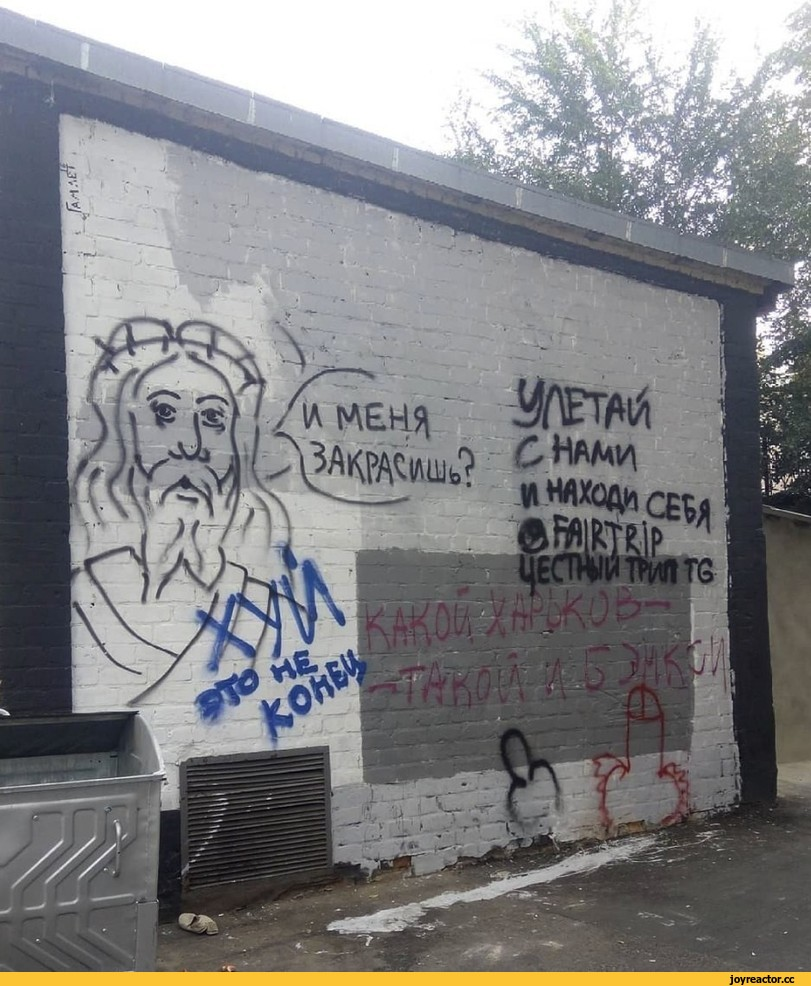graphite: (72, 303, 479, 732), (513, 374, 722, 595), (370, 593, 740, 717), (192, 570, 376, 758), (595, 680, 699, 839), (482, 718, 572, 842)
